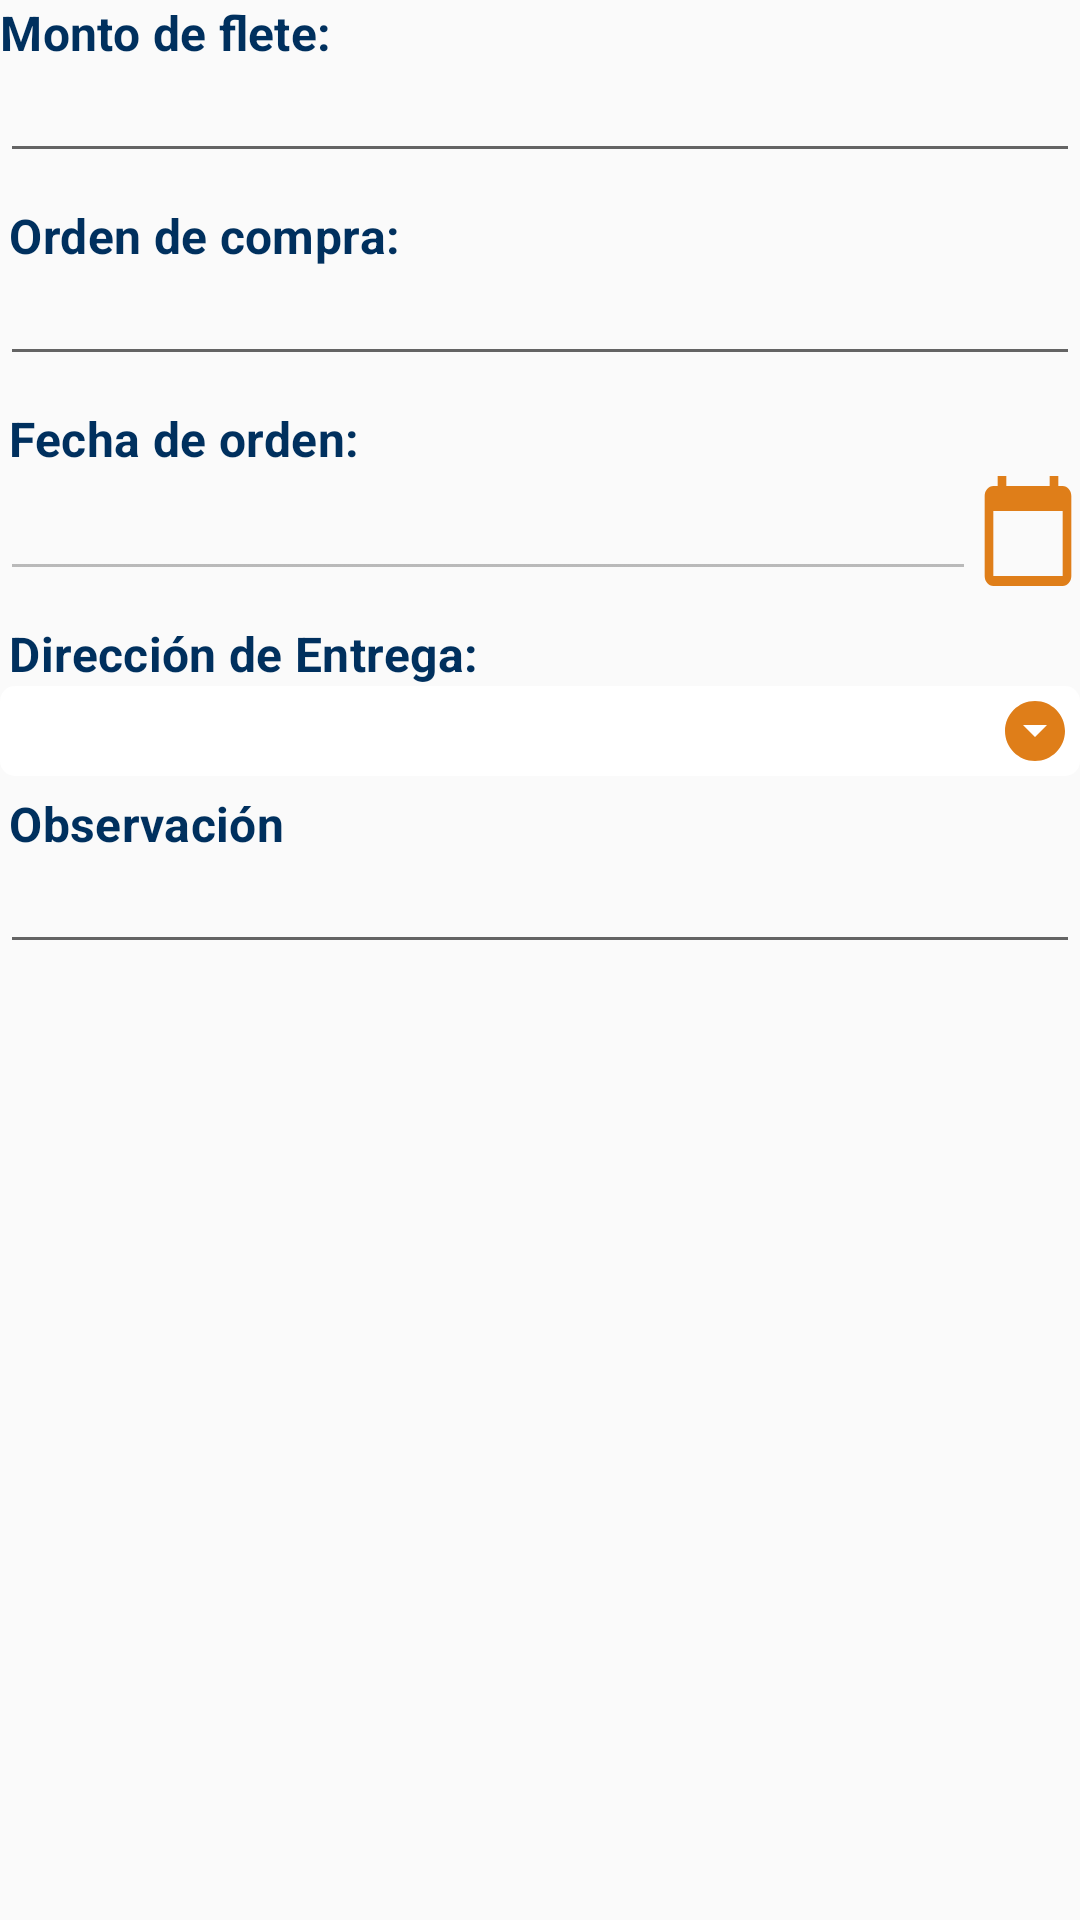

Icons on this 1080*1920 Android screen, each with the point to tap as [x,y]:
Fecha Pedido: [1028,531]
